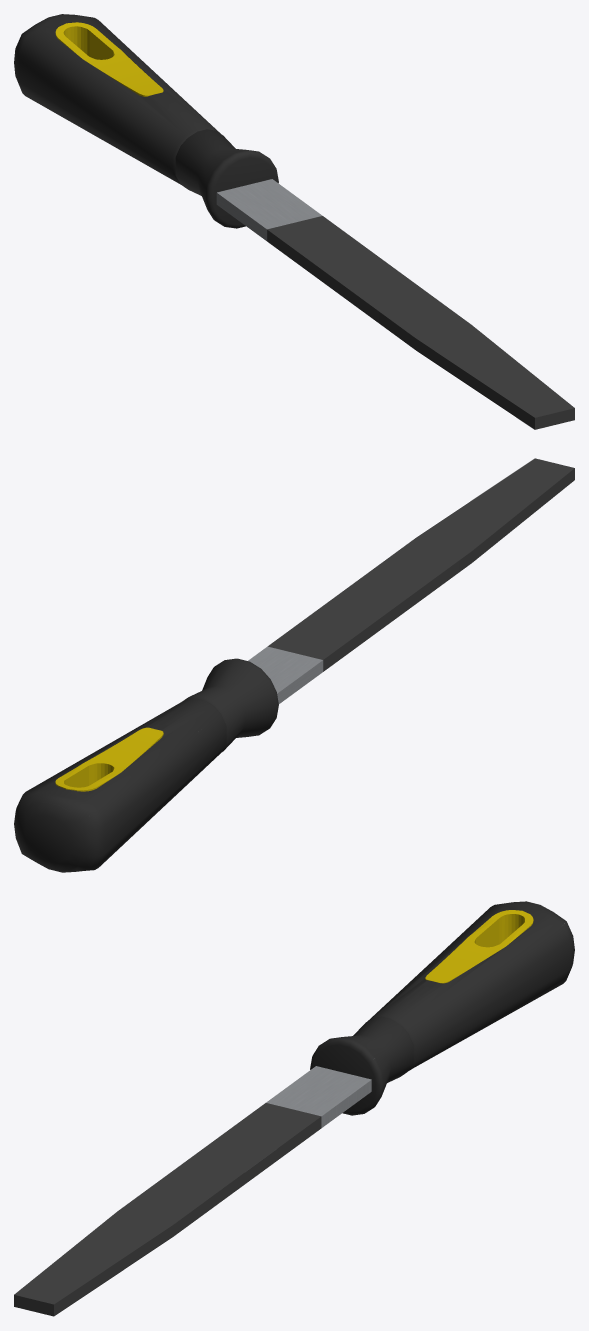
Rendered from 203_LaKuai_CuoDao.fbx.
3 renders of one model, top to bottom at view 1: azimuth 30°, elevation 25°; view 2: azimuth 150°, elevation 25°; view 3: azimuth 330°, elevation 25°, orthographic.
Visible parts, largest first — view 1: 203_LaKuai_CuoDao; view 2: 203_LaKuai_CuoDao; view 3: 203_LaKuai_CuoDao.
Part boxes in pixels (x1,y1,x2,y2): 203_LaKuai_CuoDao: (14, 14, 574, 429); 203_LaKuai_CuoDao: (14, 458, 574, 872); 203_LaKuai_CuoDao: (14, 901, 574, 1316).
Bounding box in the file's own units: 3.05 × 2.54 × 31.28.
Materials: 1 (1 with a texture image).
